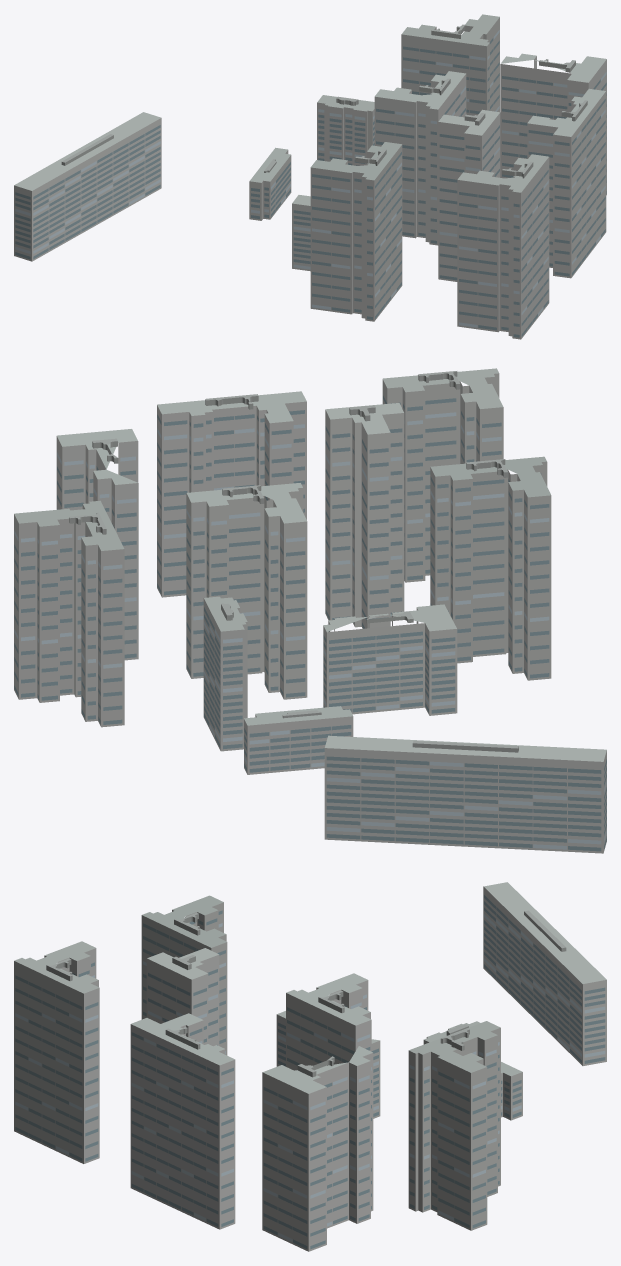
The model's file is apt-a13580003.glb.
3 renders of one model, top to bottom at view 1: azimuth 30°, elevation 25°; view 2: azimuth 150°, elevation 25°; view 3: azimuth 270°, elevation 25°, orthographic. The views are drawn at different scales.
Visible parts, largest first — view 1: apt-a13580003; view 2: apt-a13580003; view 3: apt-a13580003.
Boxes of the visible parts, bbox=[...] form: apt-a13580003: bbox=[14, 14, 606, 339]; apt-a13580003: bbox=[14, 368, 606, 853]; apt-a13580003: bbox=[14, 882, 606, 1251].
Size of the model in its own units: 298 by 90.85 by 260.
